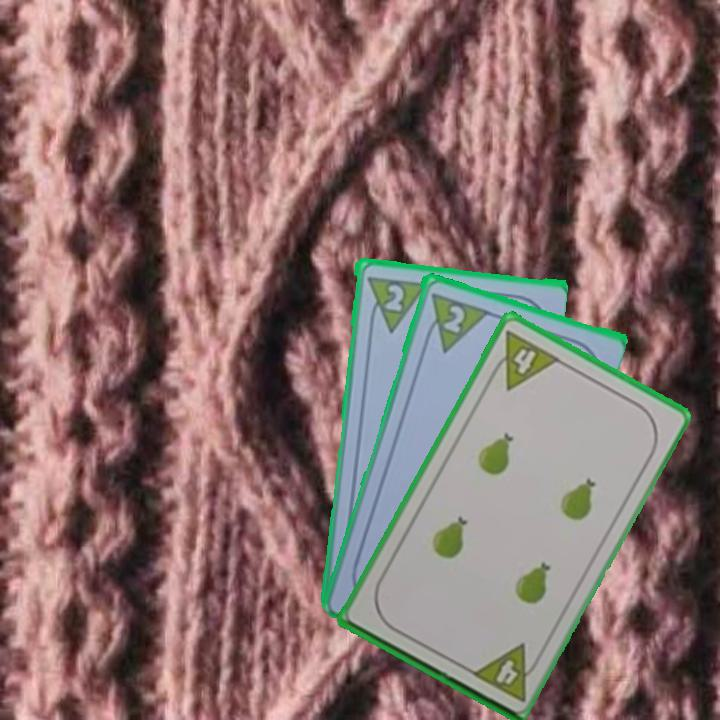2p: (419, 288, 489, 355), (363, 272, 427, 334)
4p: (484, 326, 562, 393), (467, 640, 545, 705)
